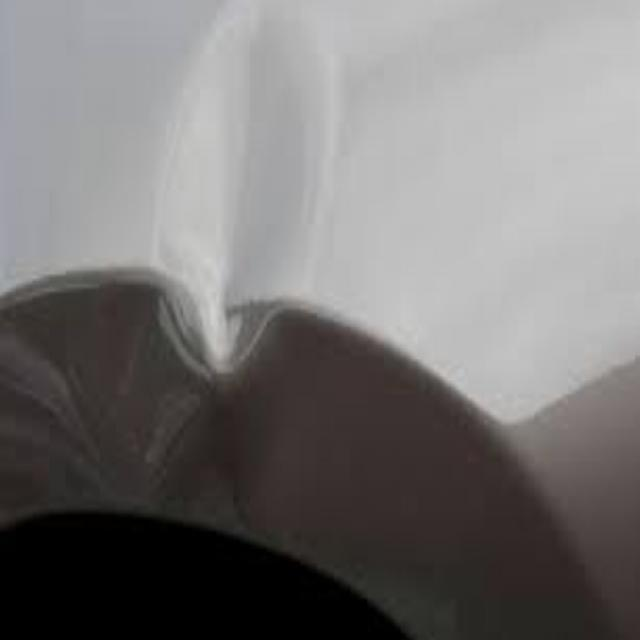dents: (158, 25, 321, 422)
